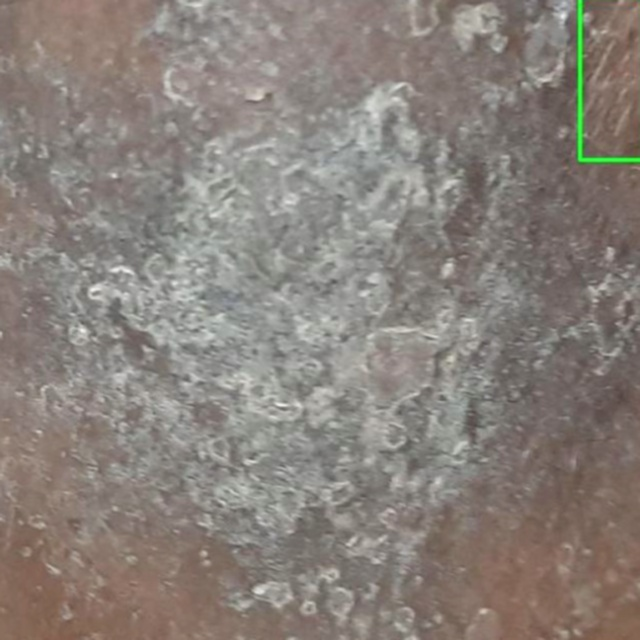Tinea Corporis: (580, 0, 639, 159)
